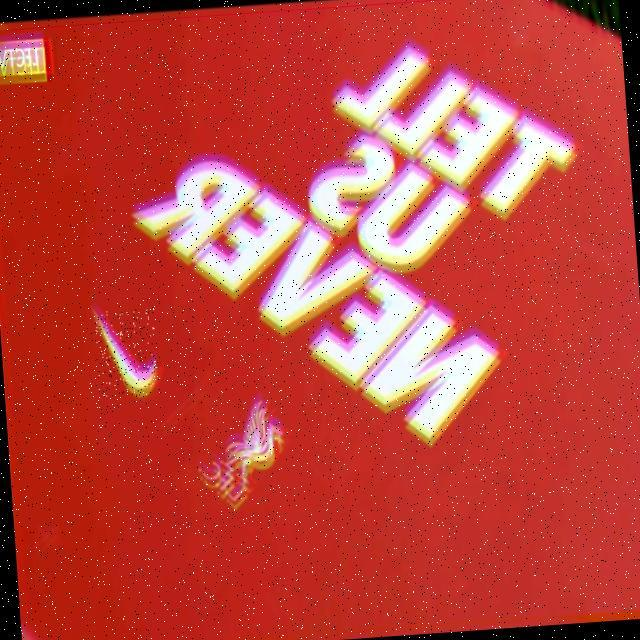Nike: (93, 308, 161, 398)
